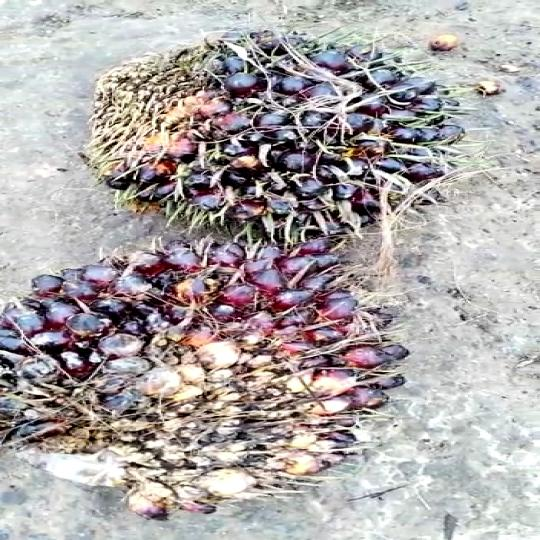kurang masak: (0, 240, 408, 512), (81, 14, 452, 240)
